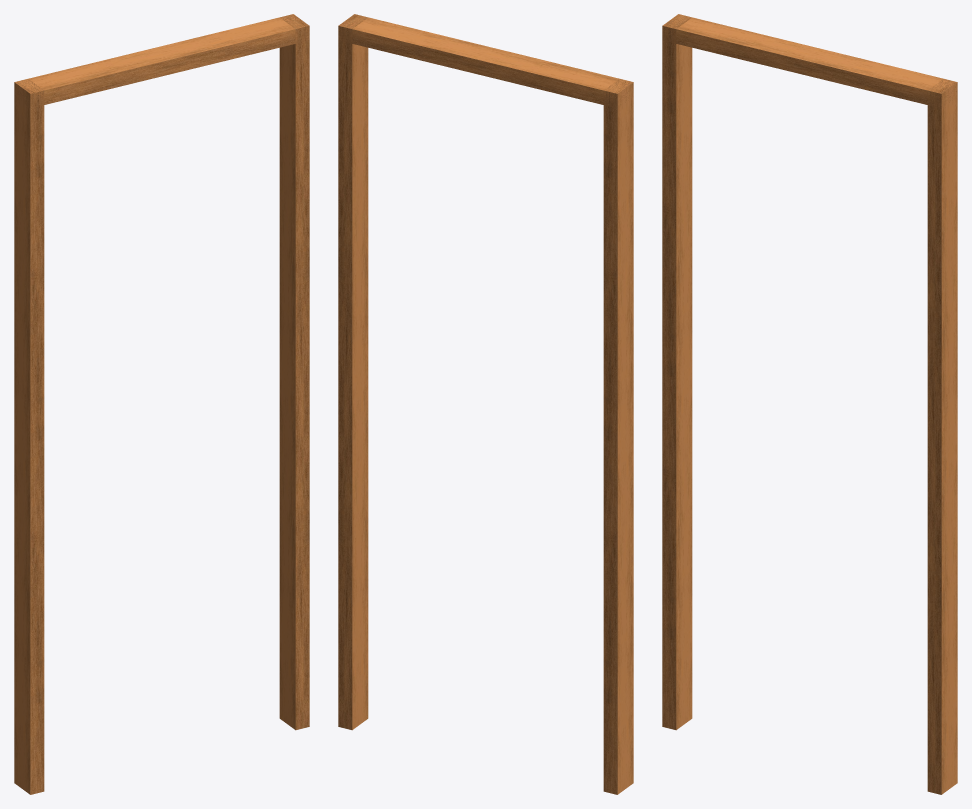
Rendered from architecture.recessed-frame.glb.
3 views of the same model, side by side, from view 1: azimuth 30°, elevation 25°; view 2: azimuth 150°, elevation 25°; view 3: azimuth 330°, elevation 25° (orthographic).
Visible parts, largest first — view 1: architecture.recessed-frame.001; view 2: architecture.recessed-frame.001; view 3: architecture.recessed-frame.001.
Part boxes in pixels (x1,y1,x2,y2): architecture.recessed-frame.001: [14, 14, 309, 794]; architecture.recessed-frame.001: [338, 14, 633, 794]; architecture.recessed-frame.001: [662, 14, 957, 794].
Size of the model in its own units: 1 by 2.4 by 0.1.
Materials: 1 (1 with a texture image).
